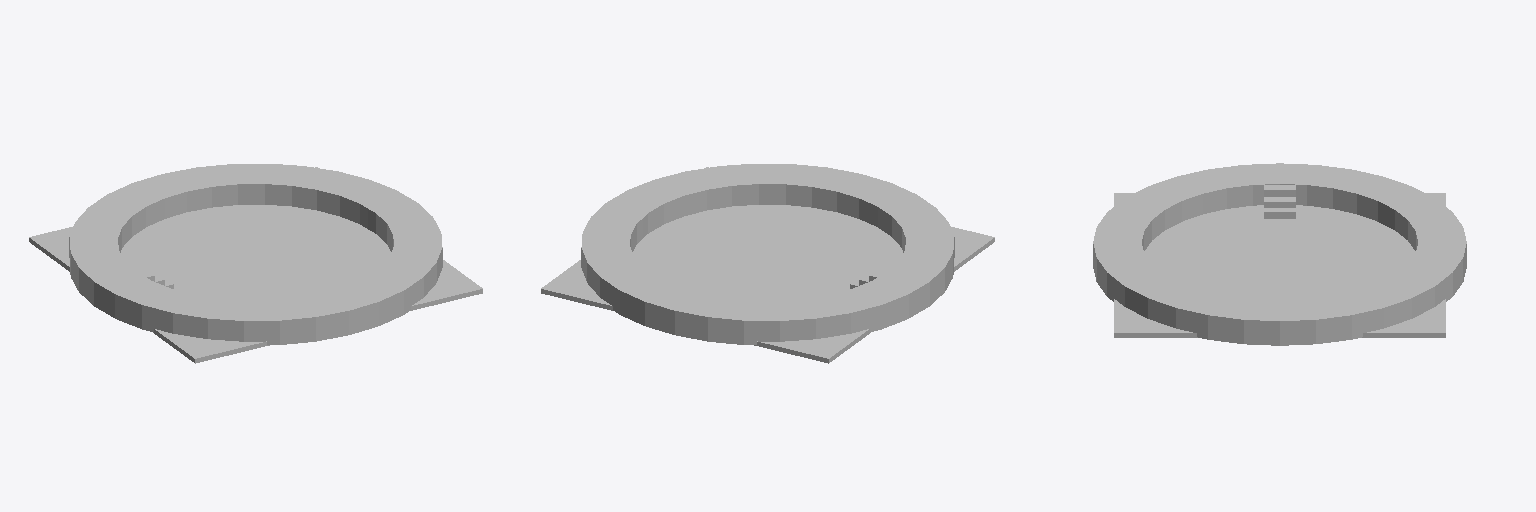
The model's file is baseIle.obj.
3 views of the same model, side by side, from view 1: azimuth 30°, elevation 25°; view 2: azimuth 150°, elevation 25°; view 3: azimuth 270°, elevation 25° (orthographic).
Visible parts, largest first — view 1: Cylinder, Cube; view 2: Cylinder, Cube; view 3: Cylinder, Cube, Cube.001.
Boxes of the visible parts, box(x1,y1,x2,y2) form: Cylinder: box(69, 164, 442, 344); Cube: box(29, 167, 482, 363); Cylinder: box(581, 164, 954, 344); Cube: box(541, 167, 994, 363); Cylinder: box(1093, 163, 1466, 345); Cube: box(1114, 193, 1445, 337); Cube.001: box(1264, 185, 1295, 218).
Bounding box in the file's own units: 52.48 × 4.24 × 52.48.